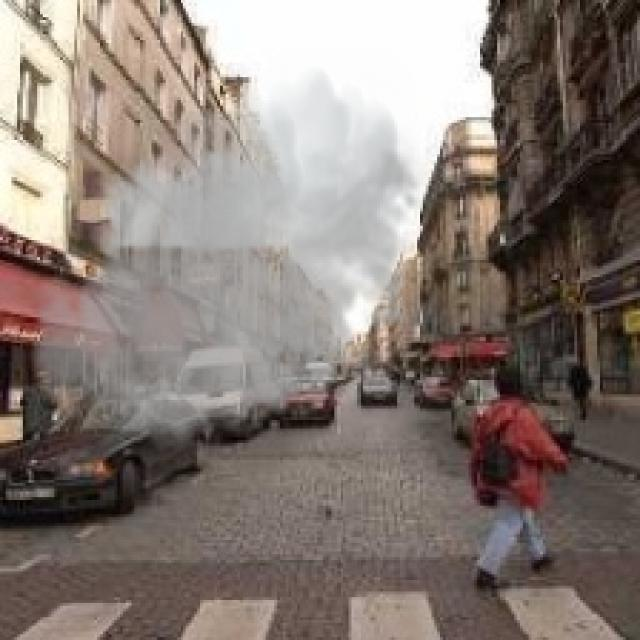smoke: (23, 51, 434, 466)
